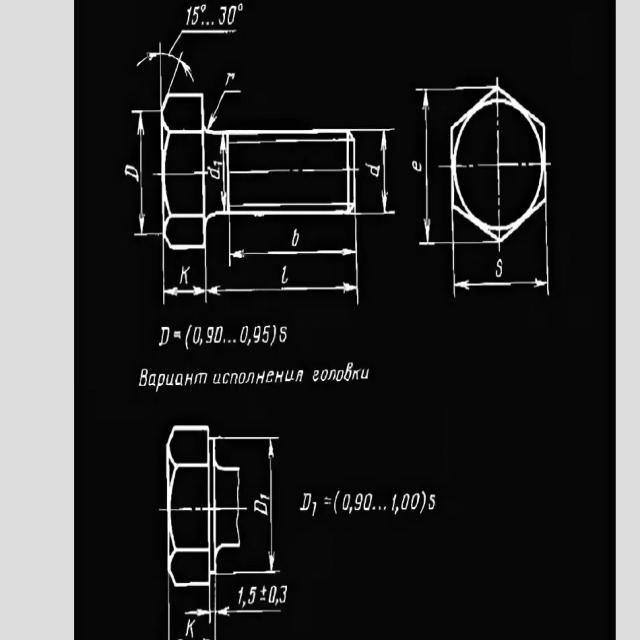marking_line: (228, 216, 357, 267), (204, 267, 360, 305), (240, 436, 280, 575), (416, 89, 451, 246), (451, 244, 550, 296), (130, 110, 162, 236), (356, 128, 396, 215), (183, 587, 283, 621), (136, 50, 194, 93), (162, 250, 207, 305), (220, 134, 227, 211)
numeric: (363, 161, 381, 178), (124, 165, 139, 182), (253, 498, 268, 515), (159, 327, 170, 346), (207, 166, 220, 180), (227, 6, 236, 25), (290, 228, 299, 247), (186, 619, 195, 638), (225, 71, 235, 88), (410, 493, 420, 510), (280, 585, 288, 606), (400, 493, 409, 511), (214, 324, 222, 344), (364, 491, 372, 511), (240, 324, 248, 343), (206, 326, 214, 344), (354, 493, 362, 511), (219, 6, 226, 26), (263, 324, 270, 344), (249, 585, 256, 605), (252, 326, 260, 343), (428, 493, 436, 510), (186, 7, 193, 26), (495, 258, 502, 277), (279, 326, 287, 342), (193, 325, 200, 343), (342, 493, 349, 511), (390, 495, 397, 513), (412, 160, 422, 172), (238, 586, 244, 605), (193, 7, 198, 27), (259, 492, 270, 501), (311, 500, 317, 516), (213, 159, 222, 167)
special_symbol: (168, 28, 240, 55), (207, 90, 244, 129), (258, 586, 267, 601), (172, 330, 182, 340), (237, 3, 244, 12), (201, 3, 207, 13), (383, 504, 387, 512), (232, 338, 236, 344), (372, 505, 376, 511), (228, 338, 231, 344), (223, 338, 226, 343), (201, 21, 204, 26), (206, 21, 209, 26), (211, 21, 214, 26), (378, 506, 381, 511)
